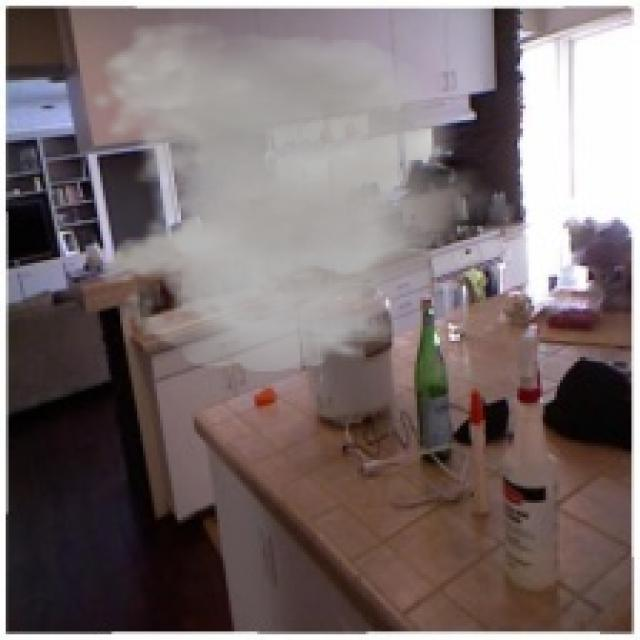Smoke: (89, 19, 512, 372)
